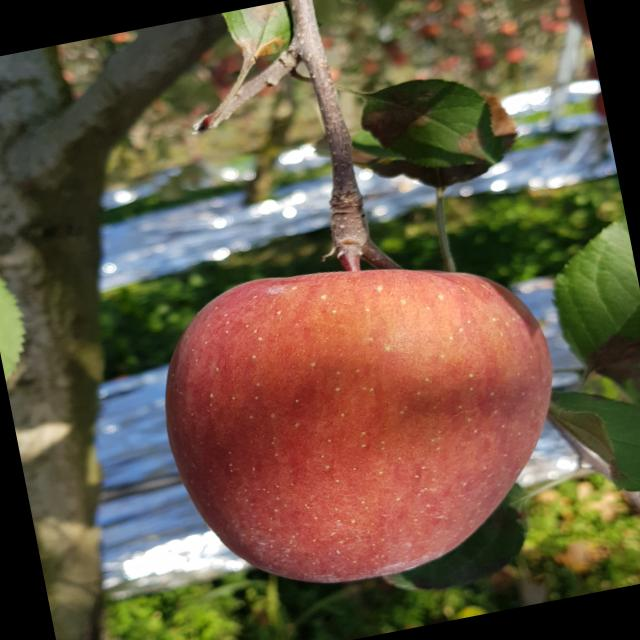fresh: (133, 215, 602, 623)
